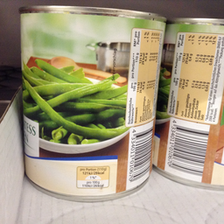beans: (16, 2, 156, 196), (161, 7, 224, 191)
